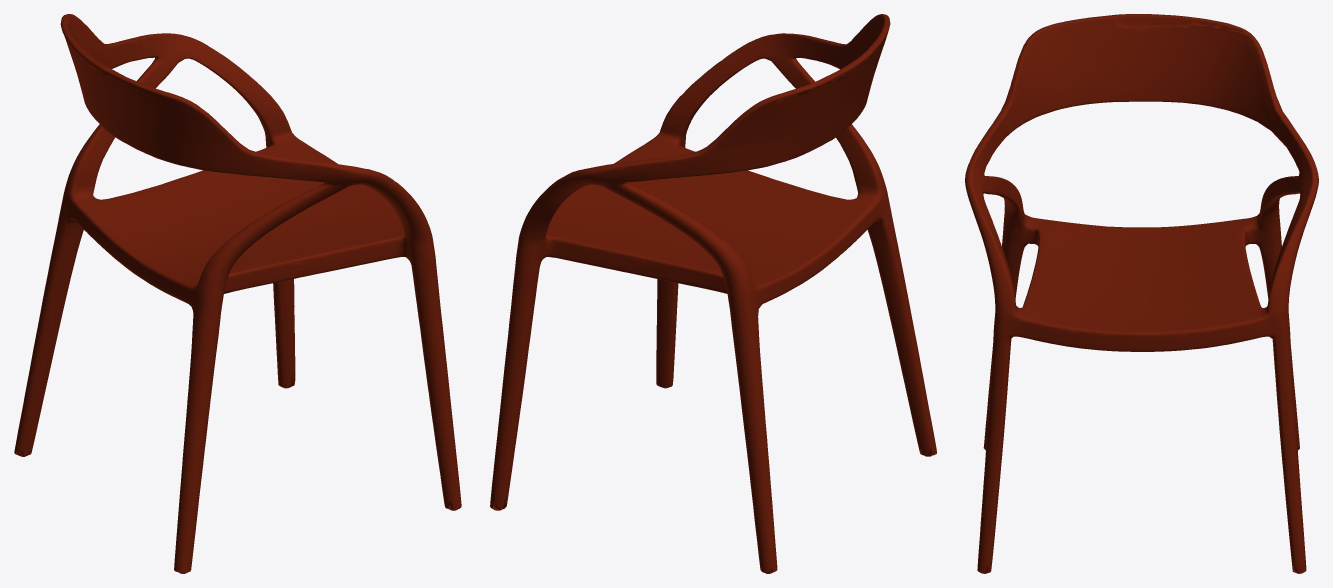
Rendered from ND-0606__Grace4_33.glb.
The picture shows the model from 3 angles, left to right: view 1: azimuth 30°, elevation 25°; view 2: azimuth 150°, elevation 25°; view 3: azimuth 270°, elevation 25°; orthographic projection. The views are drawn at different scales.
Parts seen in each view (by area): view 1: tripo_node_2e22271b-d331-4cb1-b050-75c7afa1819d; view 2: tripo_node_2e22271b-d331-4cb1-b050-75c7afa1819d; view 3: tripo_node_2e22271b-d331-4cb1-b050-75c7afa1819d.
Part boxes in pixels (x1,y1,x2,y2): tripo_node_2e22271b-d331-4cb1-b050-75c7afa1819d: [14, 14, 461, 573]; tripo_node_2e22271b-d331-4cb1-b050-75c7afa1819d: [490, 14, 936, 573]; tripo_node_2e22271b-d331-4cb1-b050-75c7afa1819d: [965, 14, 1318, 573].
Size of the model in its own units: 0.6463 by 0.9809 by 0.7289.
